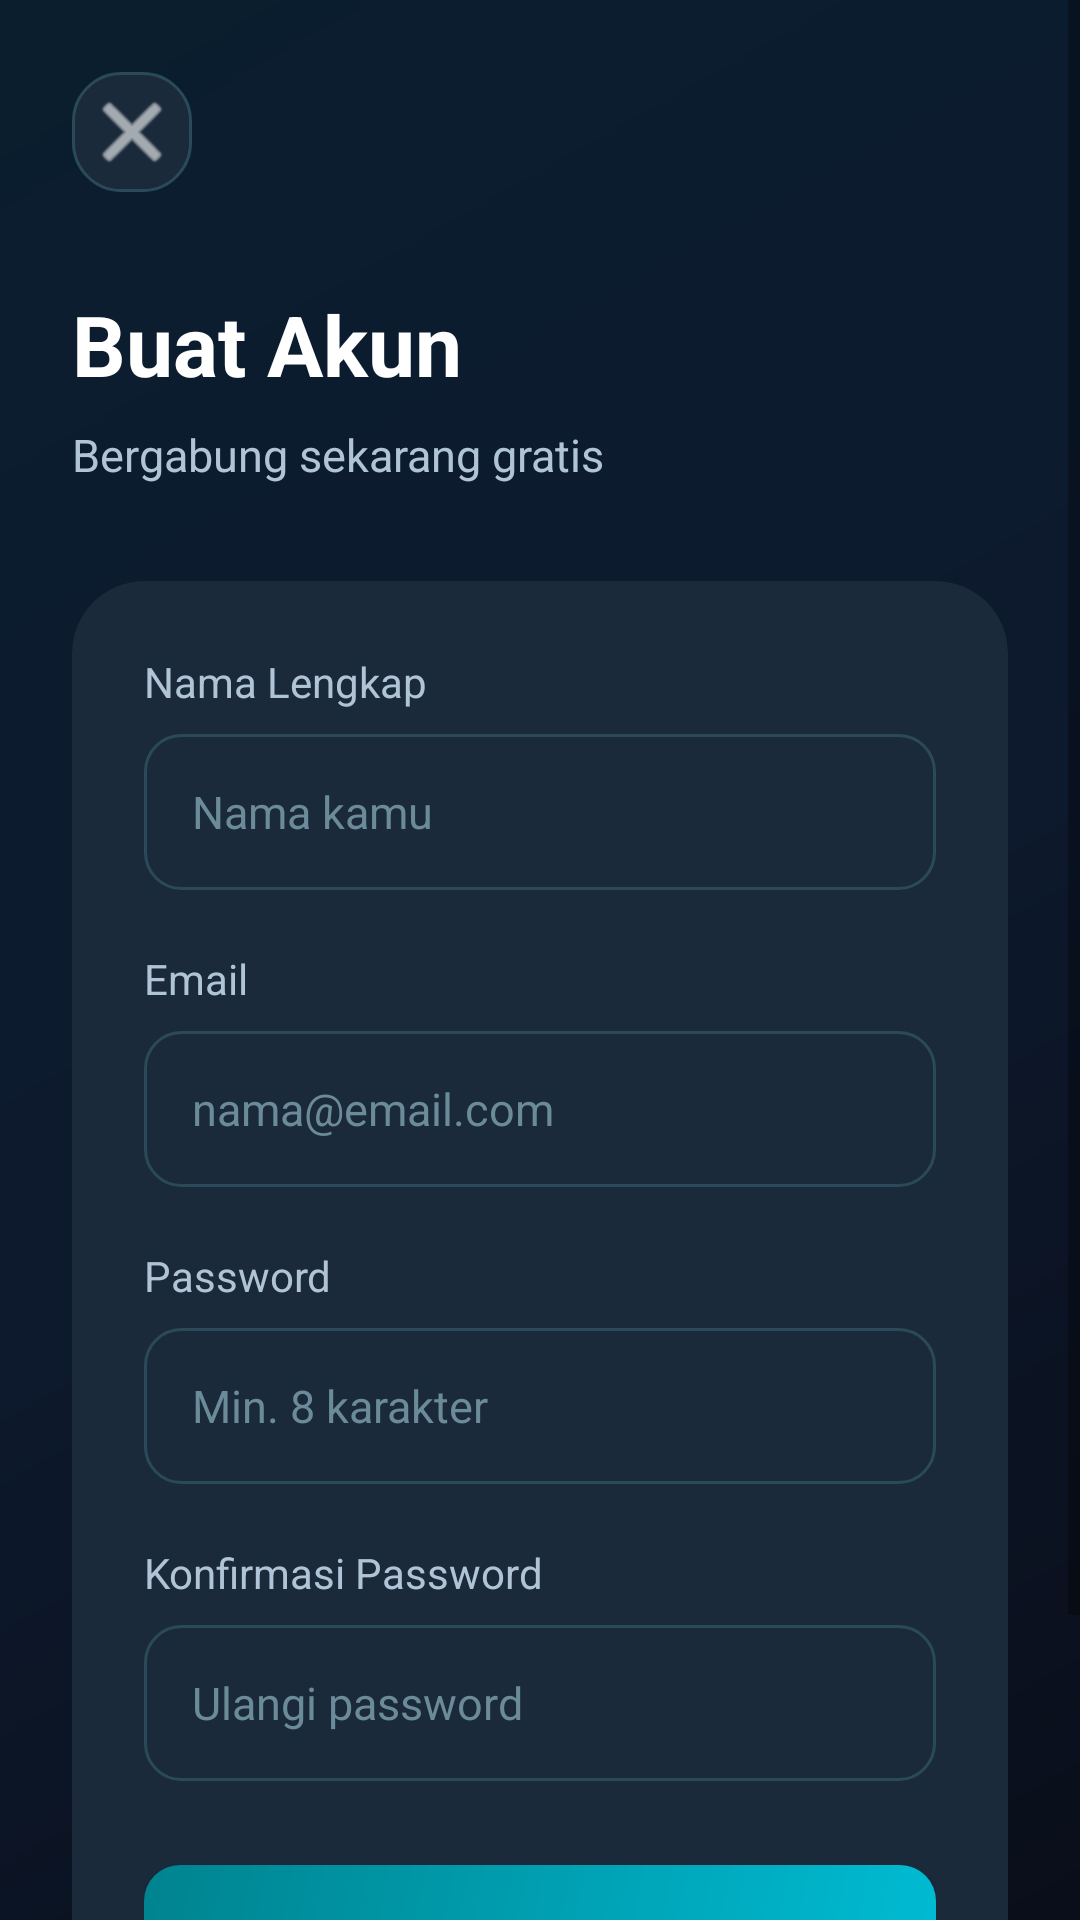

Screen size 1080×1920. Icon name, then its box in pixels as (x1, y1, x2, y2):
close clear cancel: (72, 72, 192, 192)
